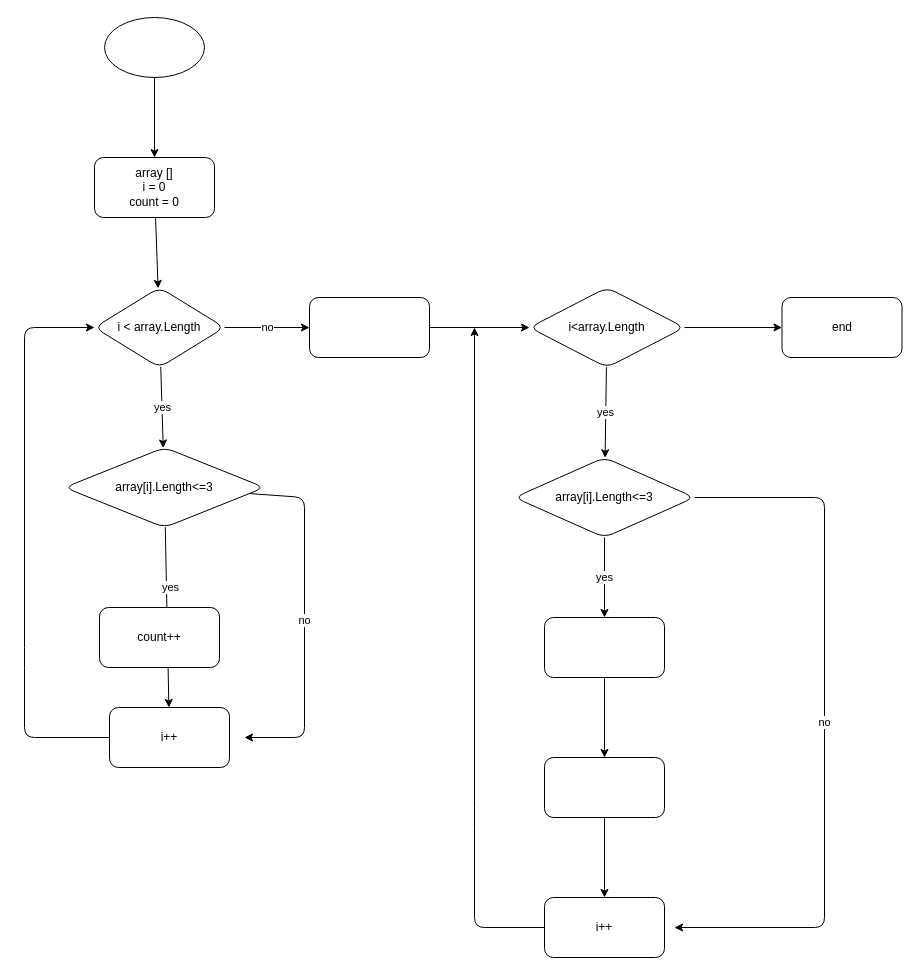
Some shapes in this 920 by 975 pixel diagram are drawn without their labels. Each missing label, with the centre of its shape:
"j++" belongs at [604,787].
"result[count] i = 0 j = 0" belongs at [369,327].
"result[j]+=array[i]" belongs at [604,647].
"start" belongs at [154,47].
